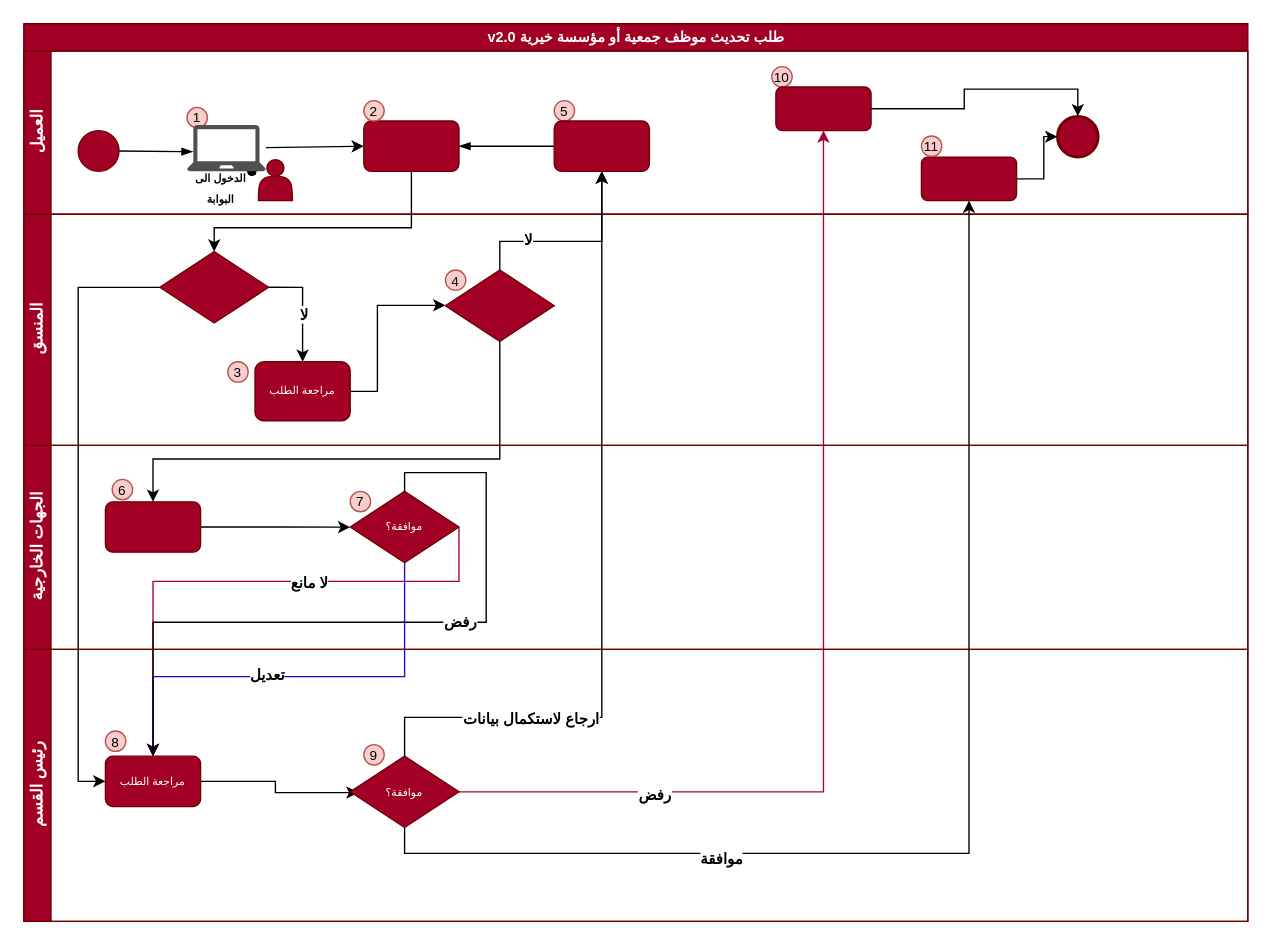
Some shapes in this 1272 by 945 pixel diagram are drawn without their labels. The shapes that lost their labels are listed below. From the top down, each one's centre as x and y in pixels, then its label:
At pixel 823 108: "ارسال رسالة إعتذار".
At pixel 98 150: "بداية".
At pixel 410 145: "تعبئة وتقديم نموذج الطلب".
At pixel 601 145: "استكمال البيانات المطلوبة و اعادة الارسال".
At pixel 1077 136: "اغلاق".
At pixel 968 178: "بإرسال رسالة الاعتماد إلى العميل مرفق التصريح".
At pixel 213 286: "من رئيس القسم؟ في حال مرجع من رئيسر القسم".
At pixel 499 305: "الطلب مكتمل؟".
At pixel 152 526: "مراجعة الطلب و اعطاء التوصيات".
